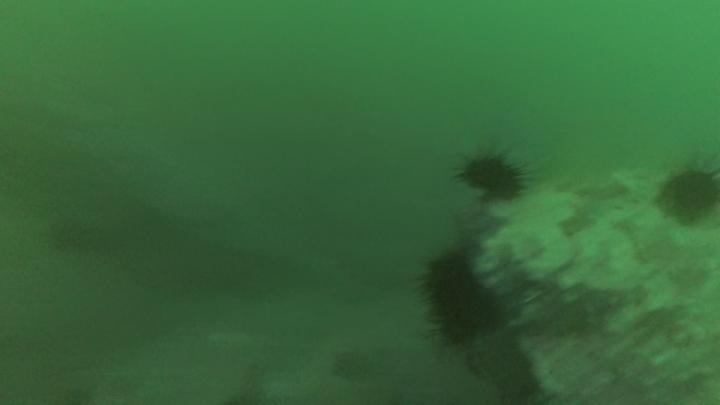echinus: (440, 291, 504, 341), (462, 158, 522, 202), (664, 171, 720, 217), (424, 257, 472, 305)
